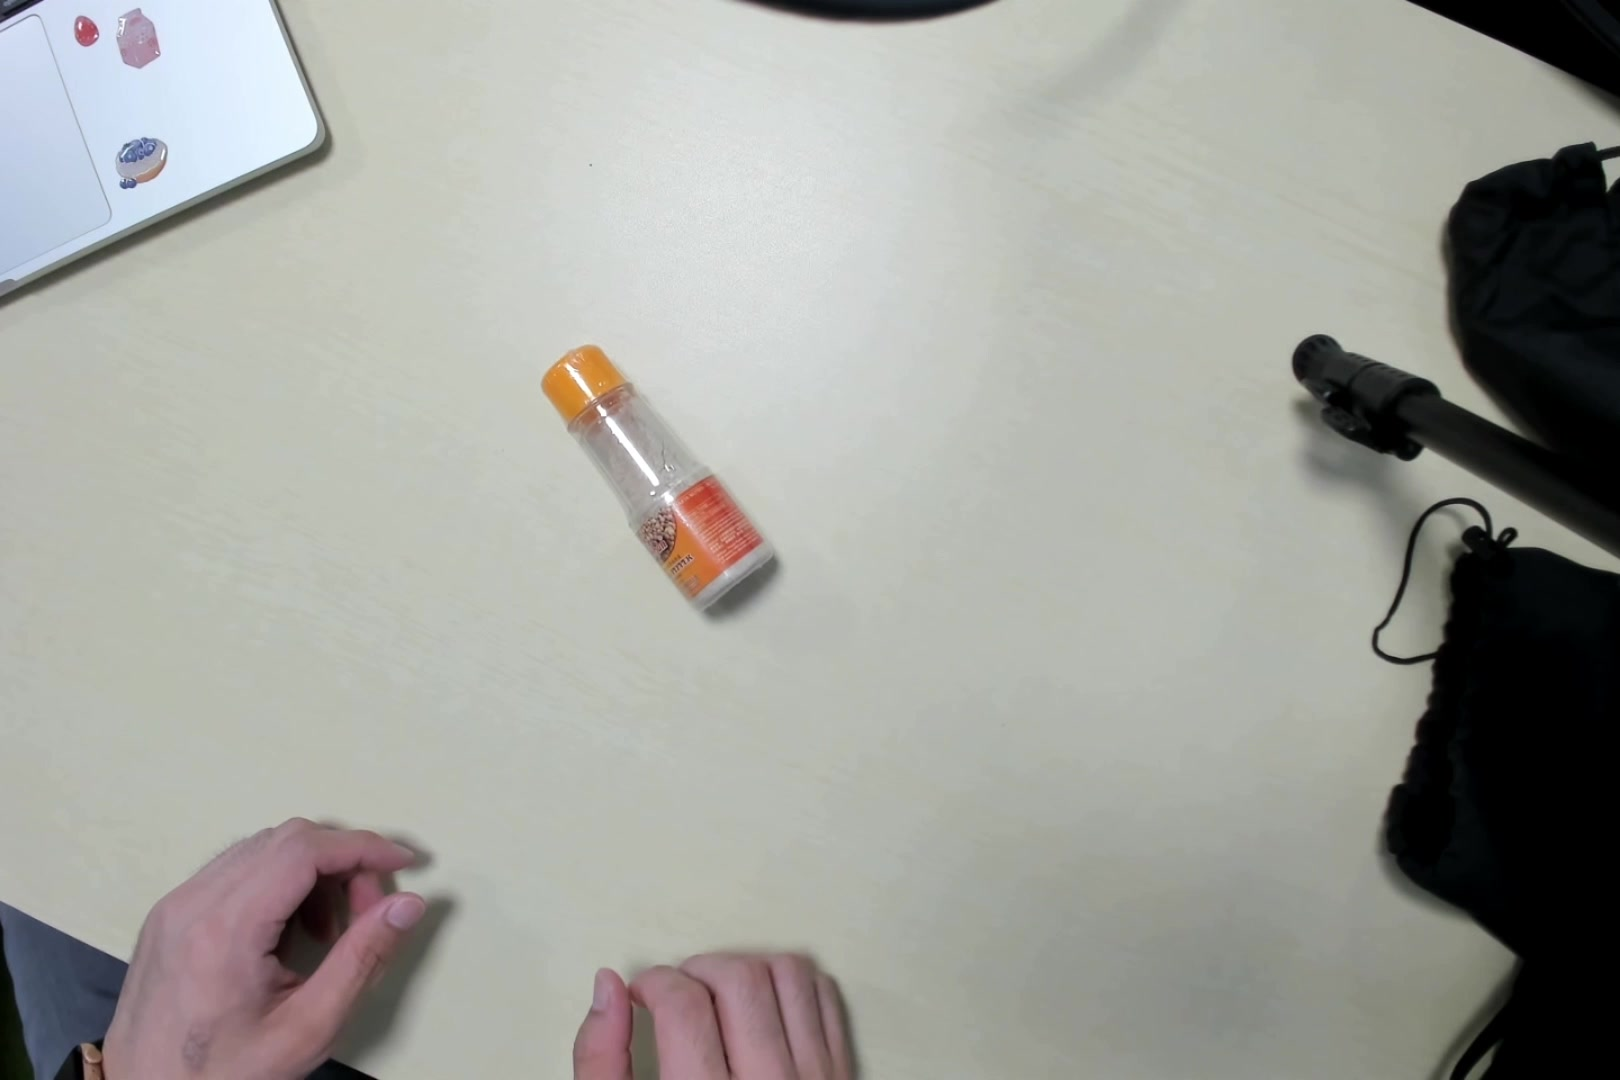HeabsSpicesPepper_0-99g_NonHalal_NonHealthy: (533, 331, 781, 621)
